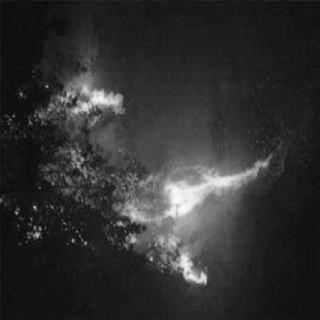Fire: (158, 157, 270, 215), (52, 74, 125, 123), (174, 250, 208, 290)
